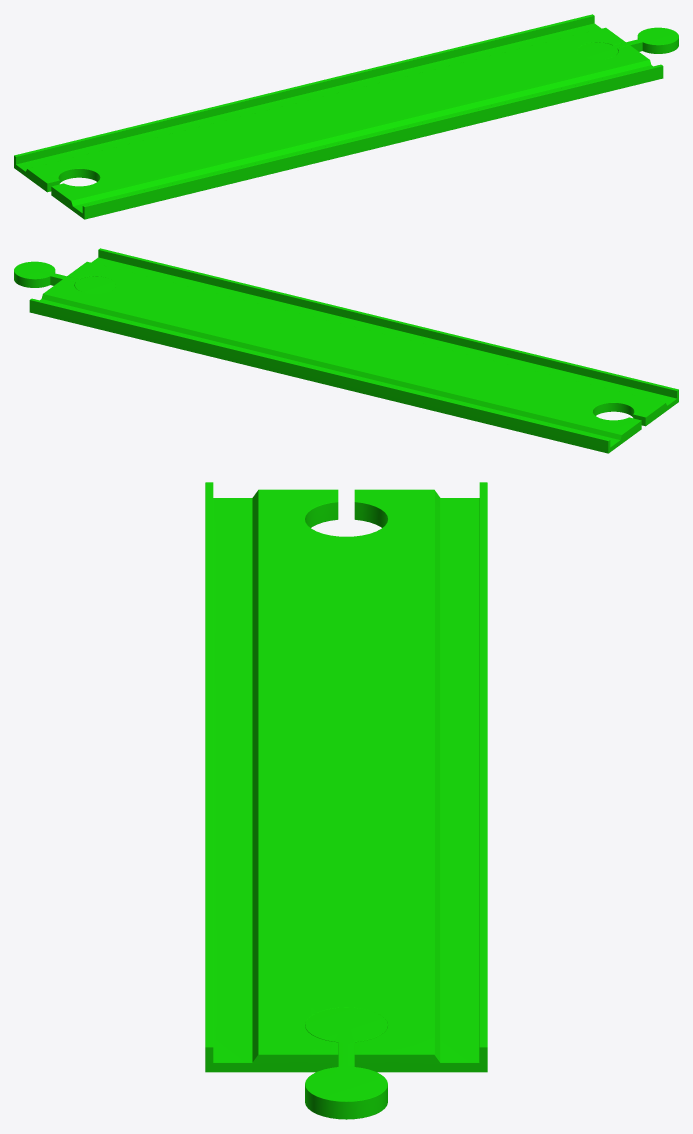
The model's file is green_track.glb.
The picture shows the model from 3 angles, top to bottom: view 1: azimuth 30°, elevation 25°; view 2: azimuth 150°, elevation 25°; view 3: azimuth 270°, elevation 25°; orthographic projection. The views are drawn at different scales.
Parts seen in each view (by area): view 1: straight_wooden_rail; view 2: straight_wooden_rail; view 3: straight_wooden_rail.
Boxes of the visible parts, bbox=[...] form: straight_wooden_rail: bbox=[14, 14, 678, 219]; straight_wooden_rail: bbox=[14, 248, 678, 453]; straight_wooden_rail: bbox=[205, 482, 487, 1119].
Size of the model in its own units: 21.75 by 0.4193 by 4.24.
